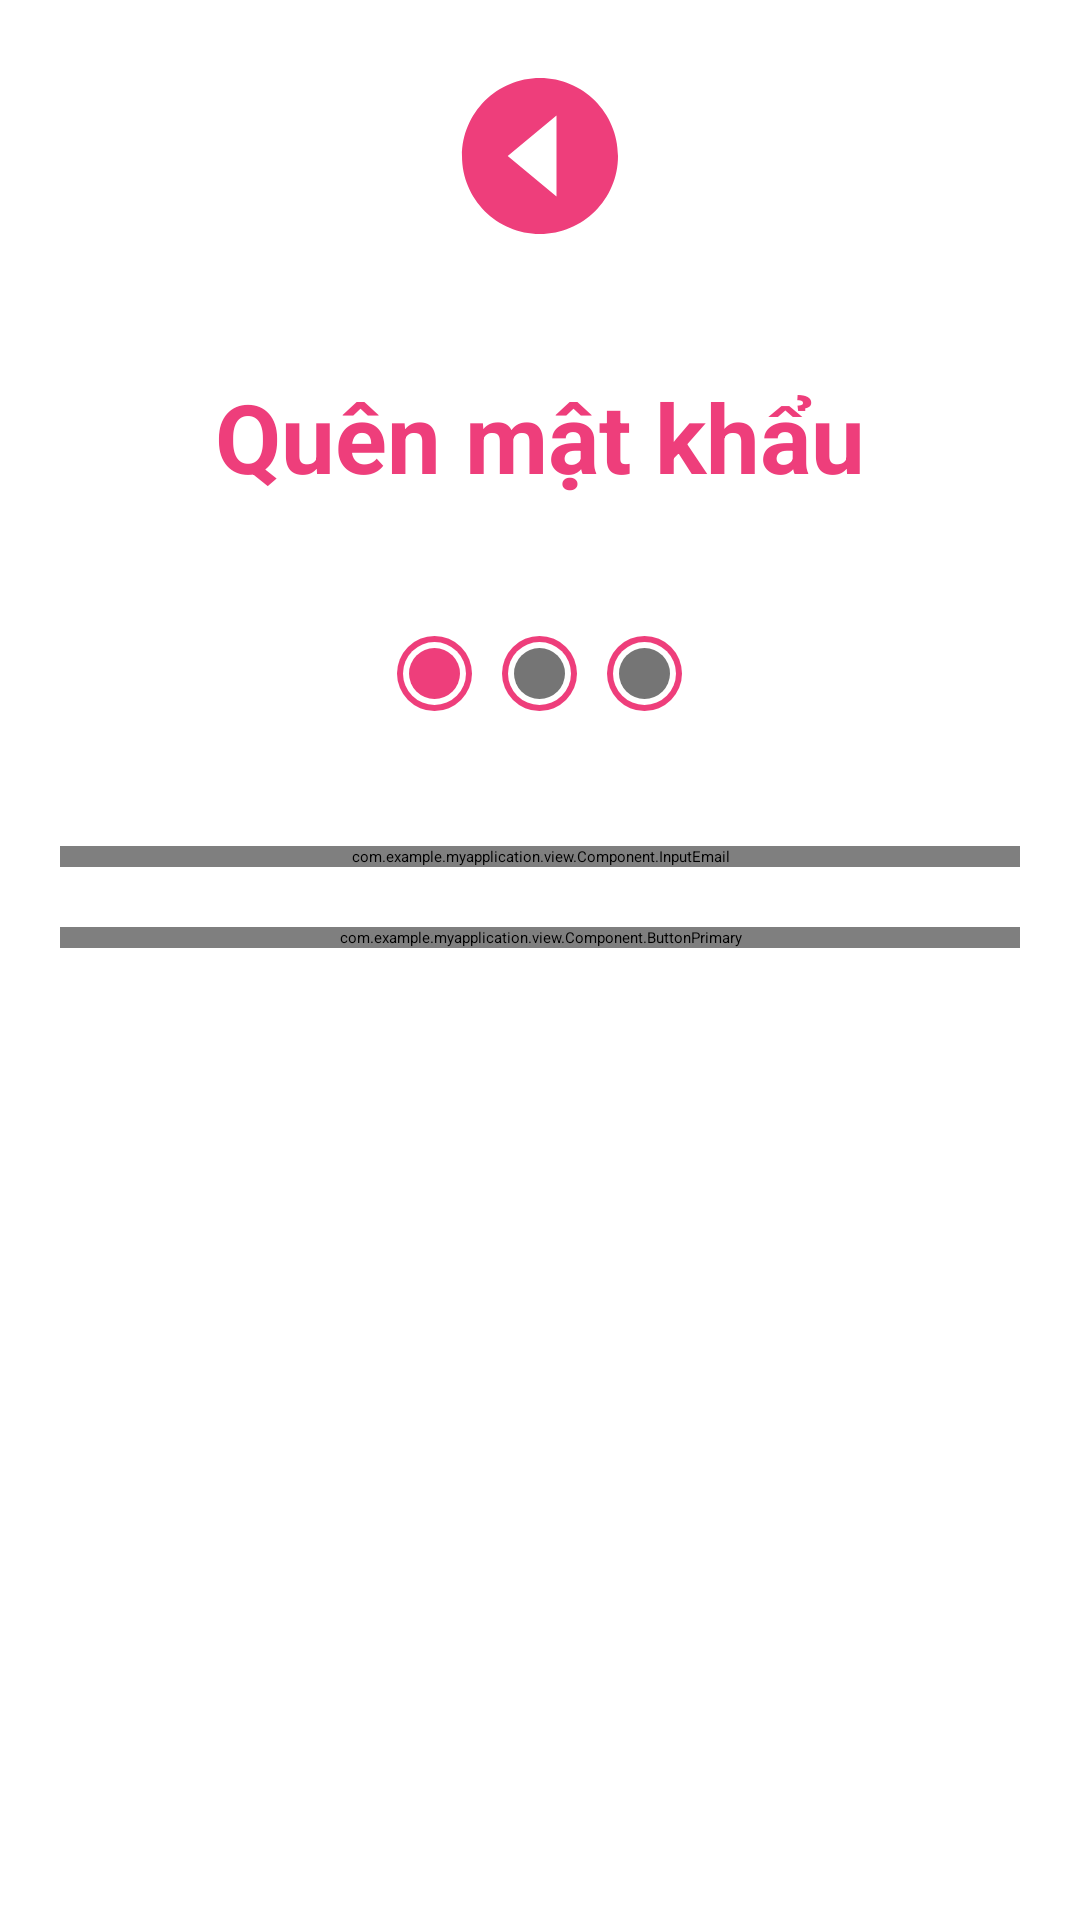

Point at icon controls on the screen. Image size 1080px x 1920px, points as point (x, y).
back: point (540, 156)
